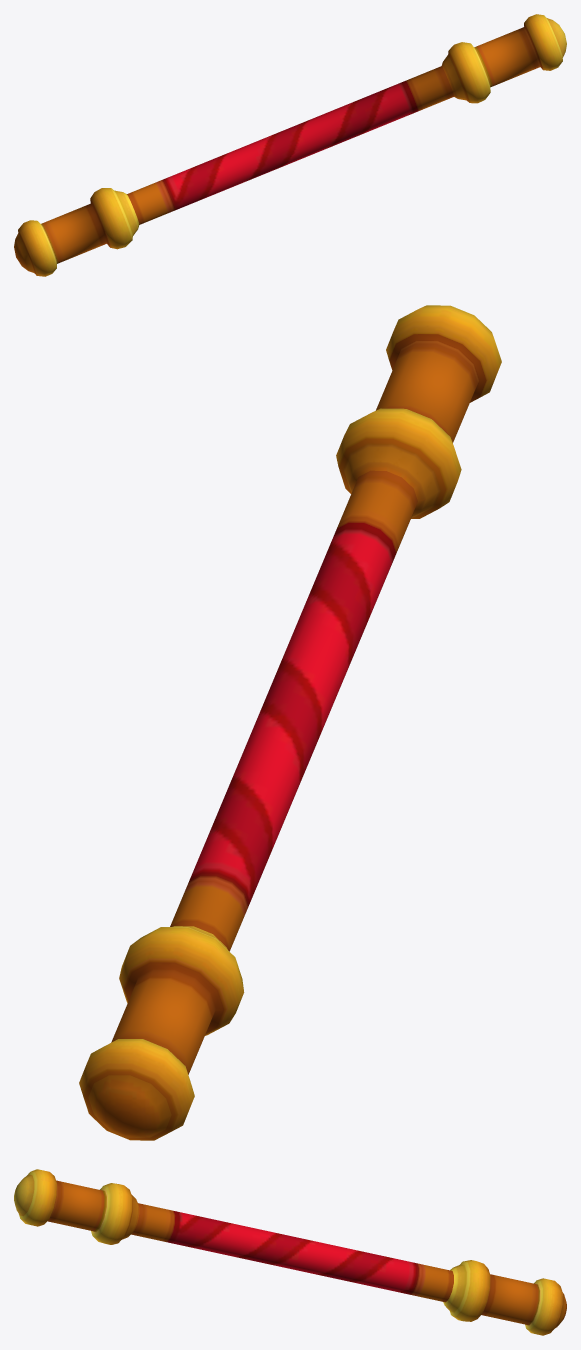
The model's file is wukong-mico_weapon.glb.
The picture shows the model from 3 angles, top to bottom: view 1: azimuth 90°, elevation 25°; view 2: azimuth 150°, elevation 25°; view 3: azimuth 270°, elevation 25°; orthographic projection. The views are drawn at different scales.
Parts seen in each view (by area): view 1: HeroAttachment_Staff; view 2: HeroAttachment_Staff; view 3: HeroAttachment_Staff.
Part boxes in pixels (<box>): HeroAttachment_Staff: <box>14,14,566,276</box>; HeroAttachment_Staff: <box>79,305,501,1140</box>; HeroAttachment_Staff: <box>14,1169,566,1335</box>.
Size of the model in its own units: 2.5 by 3.36 by 8.04.
Materials: 2 (2 with a texture image).
